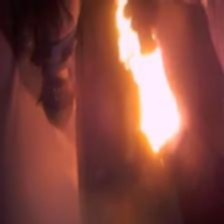fire: (124, 58, 178, 155)
